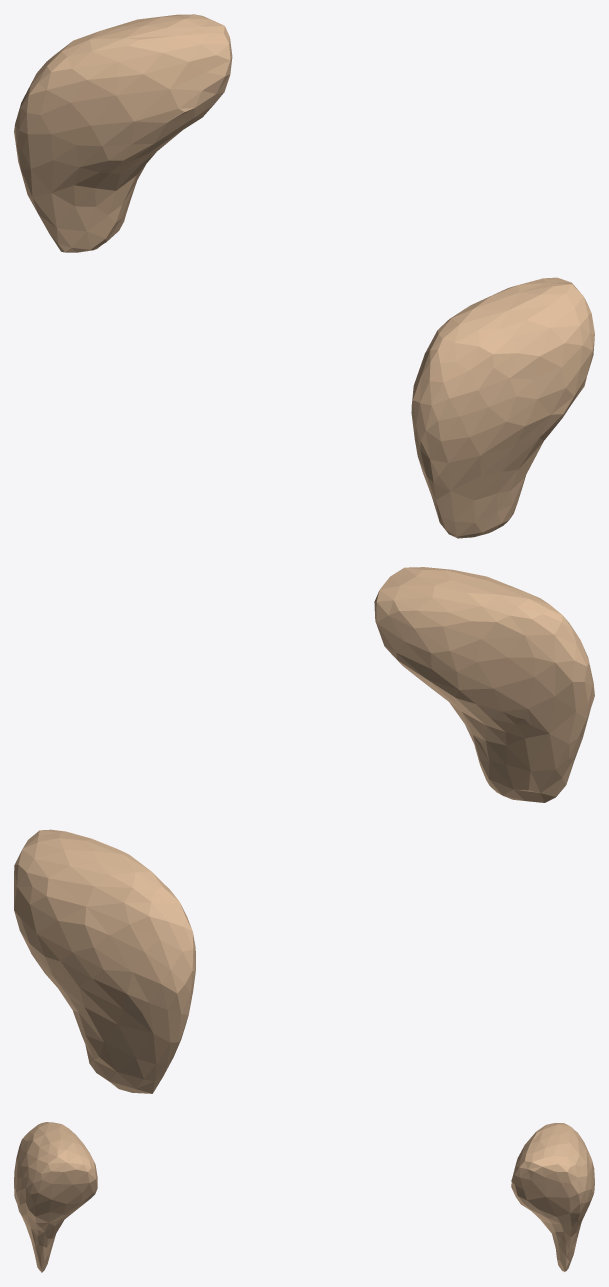
3 renders of one model, top to bottom at view 1: azimuth 30°, elevation 25°; view 2: azimuth 150°, elevation 25°; view 3: azimuth 270°, elevation 25°, orthographic. The views are drawn at different scales.
Parts seen in each view (by area): view 1: 114.obj; view 2: 114.obj; view 3: 114.obj.
Boxes of the visible parts, box(x1,y1,x2,y2) form: 114.obj: box(14, 14, 594, 538); 114.obj: box(14, 567, 594, 1093); 114.obj: box(14, 1122, 594, 1272).
Bounding box in the file's own units: 821 × 935 × 3320.
